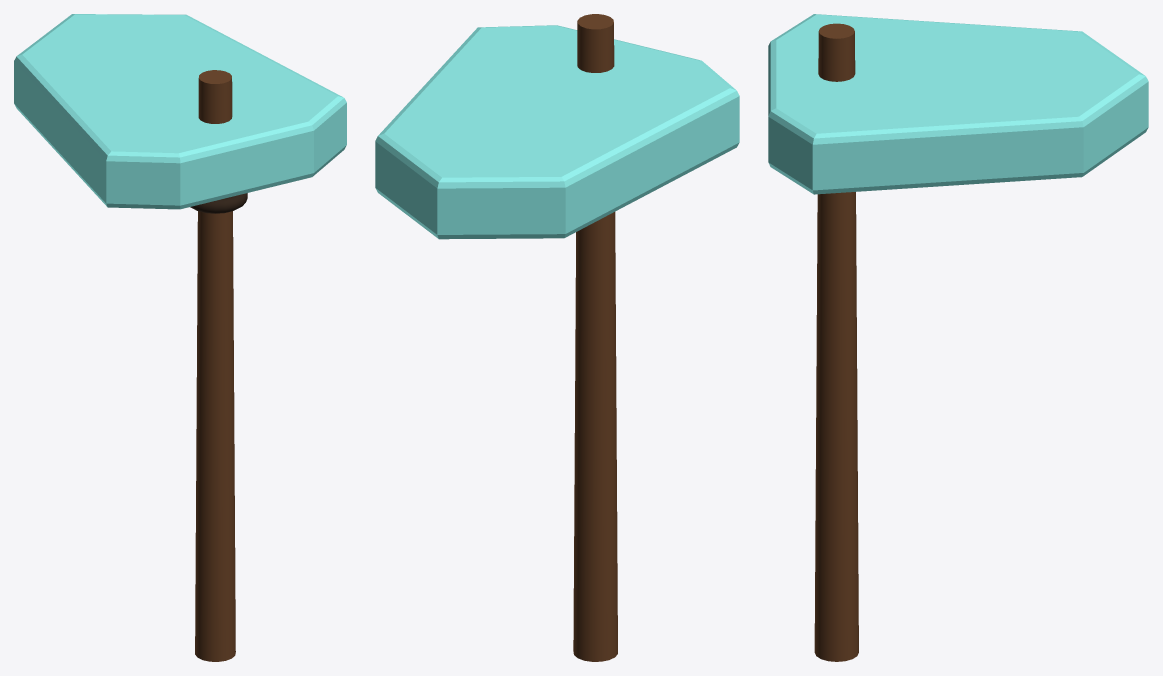
Rendered from diamond_axe.glb.
The picture shows the model from 3 angles, left to right: view 1: azimuth 30°, elevation 25°; view 2: azimuth 150°, elevation 25°; view 3: azimuth 270°, elevation 25°; orthographic projection. The views are drawn at different scales.
Parts seen in each view (by area): view 1: head, handle, binding; view 2: head, handle; view 3: head, handle.
Boxes of the visible parts, x1,y1,x2,y2 form: head: (14, 14, 346, 209); handle: (195, 70, 235, 661); binding: (190, 193, 247, 213); head: (375, 25, 739, 239); handle: (573, 14, 617, 661); head: (768, 14, 1148, 194); handle: (814, 23, 858, 661).
Size of the model in its own units: 0.2974 by 0.68 by 0.3773.
